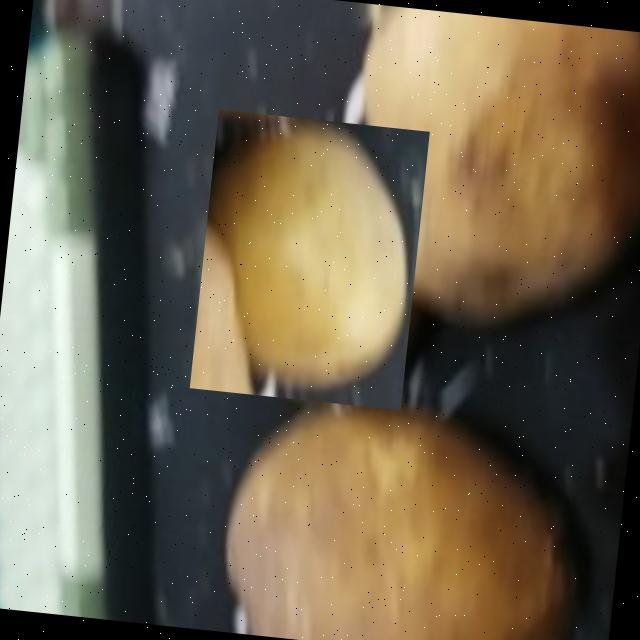Damaged potato: (330, 3, 640, 343)
Potato: (213, 381, 600, 640), (188, 109, 428, 410)
